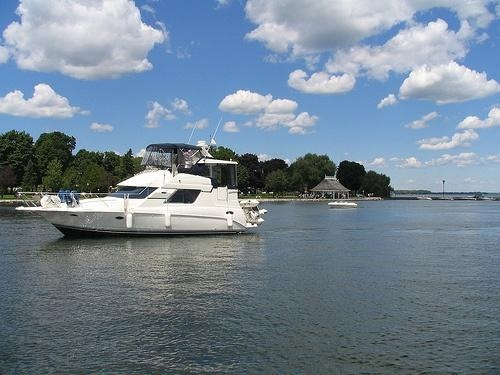boat: (15, 116, 266, 241), (329, 199, 358, 209)
